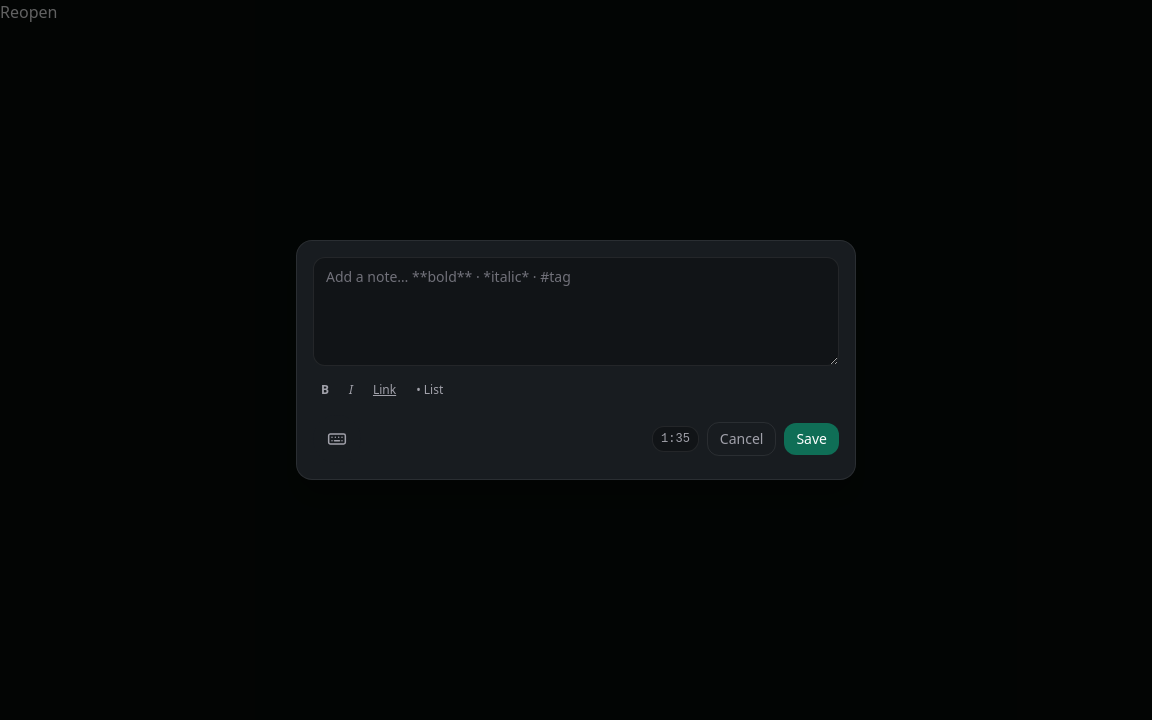
Test: CommentEditorSheet › tag autocomplete inserts the picked tag with a trailing space
Type "see #lin" into the text box named "Comment" at [576, 312], box [313,257,839,366]
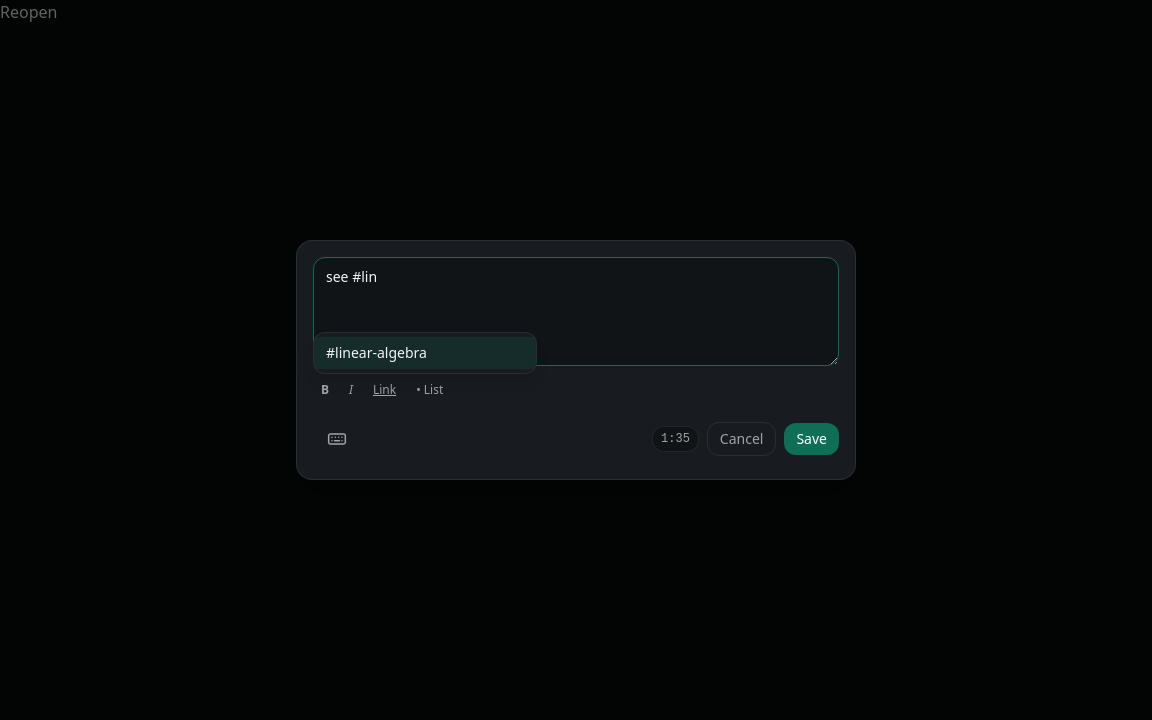
Press the mouse on the option "#linear-algebra" at [425, 353], box [314,337,536,369]
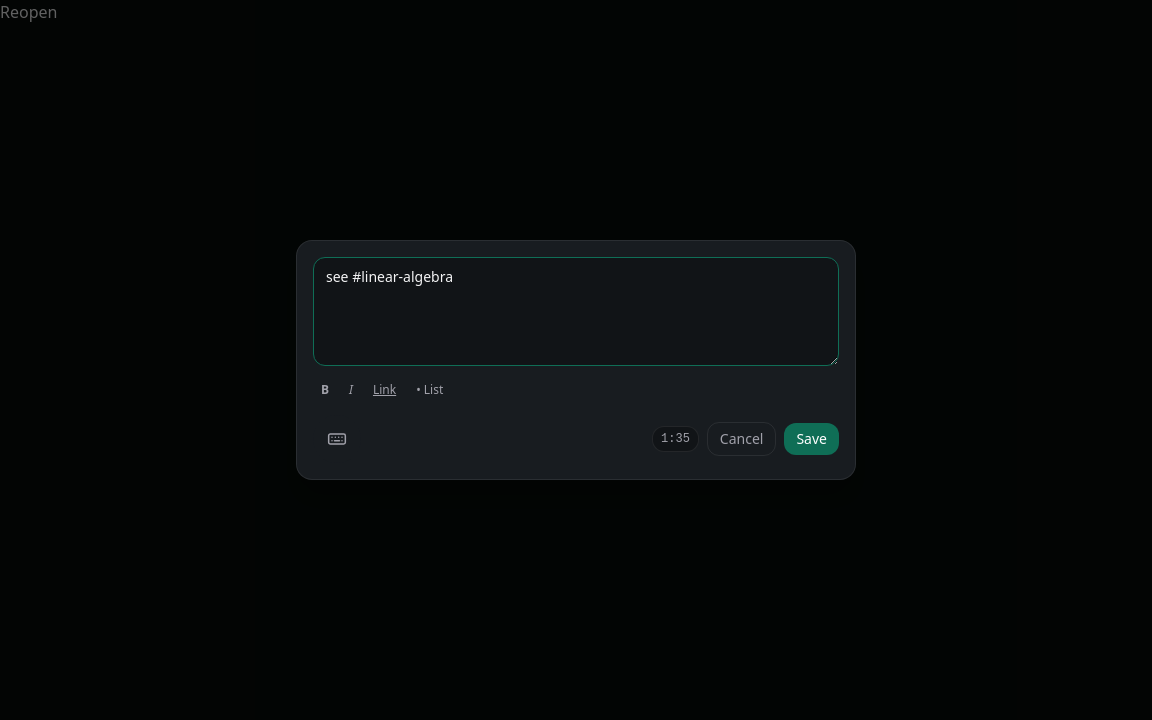
Now the text box named "Comment" holds "see #linear-algebra ", box [313,257,839,366]
Now the list is gone
